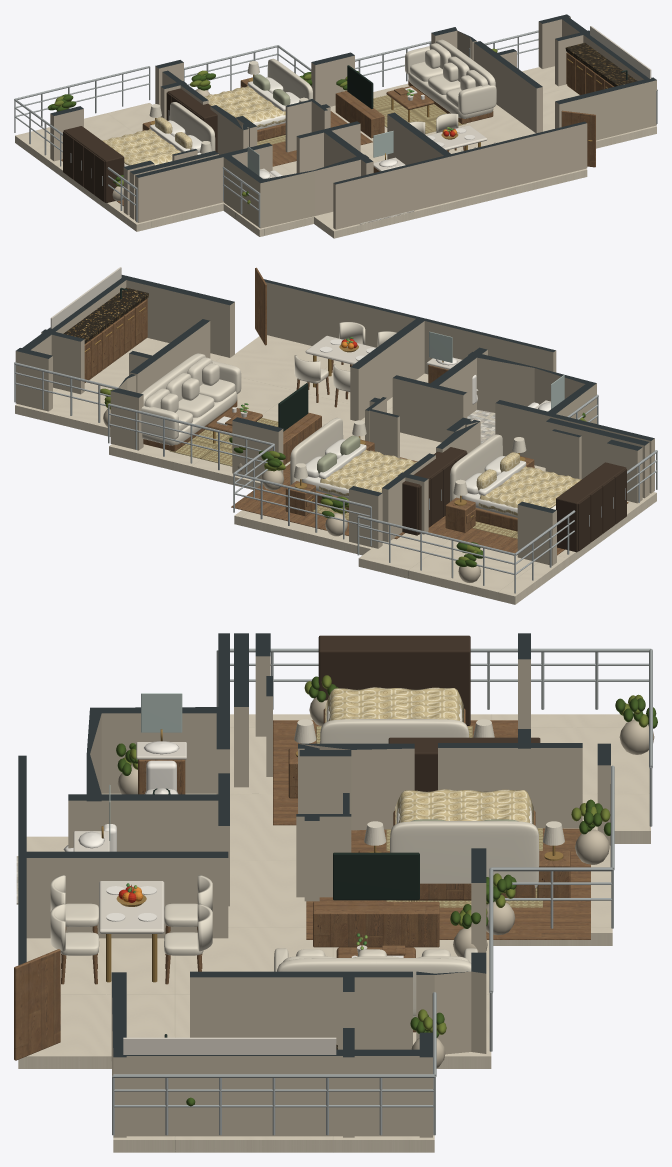
The picture shows the model from 3 angles, top to bottom: view 1: azimuth 30°, elevation 25°; view 2: azimuth 150°, elevation 25°; view 3: azimuth 270°, elevation 25°; orthographic projection. The views are drawn at different scales.
Visible parts, largest first — view 1: Source-traced internal and perimeter walls • Wall, Continuous apartment foundation, Soft jacquard duvet with folds.001, Soft jacquard duvet with folds, Fitted dark wardrobe, Walnut media console, Living patterned carpet, Deep green kitchen stone, Padded headboard, Rounded armrest.001, Padded headboard.001, Oak entrance door (+19 smaller); view 2: Source-traced internal and perimeter walls • Wall, Continuous apartment foundation, Soft jacquard duvet with folds, Soft jacquard duvet with folds.001, Fitted dark wardrobe, Full bedroom wood flooring.001, Deep green kitchen stone, Fitted dark wardrobe.001, Padded headboard.001, Padded headboard, Living patterned carpet, Full bedroom wood flooring (+24 smaller); view 3: Source-traced internal and perimeter walls • Wall, Continuous apartment foundation, Fitted dark wardrobe, Padded headboard.001, Walnut media console, Full bedroom wood flooring.001, Oak entrance door, Television, Soft jacquard duvet with folds, Soft jacquard duvet with folds.001, Backsplash, Padded headboard (+19 smaller).
Boxes of the visible parts, x1,y1,x2,y2 form: Source-traced internal and perimeter walls • Wall: (50,14,656,229); Continuous apartment foundation: (15,66,656,238); Soft jacquard duvet with folds.001: (204,86,285,127); Soft jacquard duvet with folds: (102,129,180,165); Fitted dark wardrobe: (63,126,124,202); Walnut media console: (335,90,384,138); Living patterned carpet: (373,95,466,133); Deep green kitchen stone: (565,43,637,86); Padded headboard: (169,102,215,151); Rounded armrest.001: (458,84,496,114); Padded headboard.001: (267,58,312,99); Oak entrance door: (561,110,595,167); Source-traced internal and perimeter walls • Wall: (15,275,654,565); Continuous apartment foundation: (15,335,656,604); Soft jacquard duvet with folds: (478,466,581,515); Soft jacquard duvet with folds.001: (319,449,416,496); Fitted dark wardrobe: (556,462,626,552); Full bedroom wood flooring.001: (231,457,417,535); Deep green kitchen stone: (63,287,148,341); Fitted dark wardrobe.001: (402,447,466,535); Padded headboard.001: (290,418,343,484); Padded headboard: (450,434,502,501); Living patterned carpet: (170,418,278,466); Full bedroom wood flooring: (428,502,628,554); Source-traced internal and perimeter walls • Wall: (18,633,610,1137); Continuous apartment foundation: (18,714,650,1152); Fitted dark wardrobe: (318,635,470,725); Padded headboard.001: (390,821,539,888); Walnut media console: (313,901,439,947); Full bedroom wood flooring.001: (306,828,590,939); Oak entrance door: (14,949,60,1060); Television: (333,852,419,900); Soft jacquard duvet with folds: (325,687,463,722); Soft jacquard duvet with folds.001: (395,789,533,824); Backsplash: (123,1037,336,1054); Padded headboard: (320,719,468,743).
Size of the model in its own units: 12.88 by 1.7 by 8.14.
26 materials, 6 textured.
